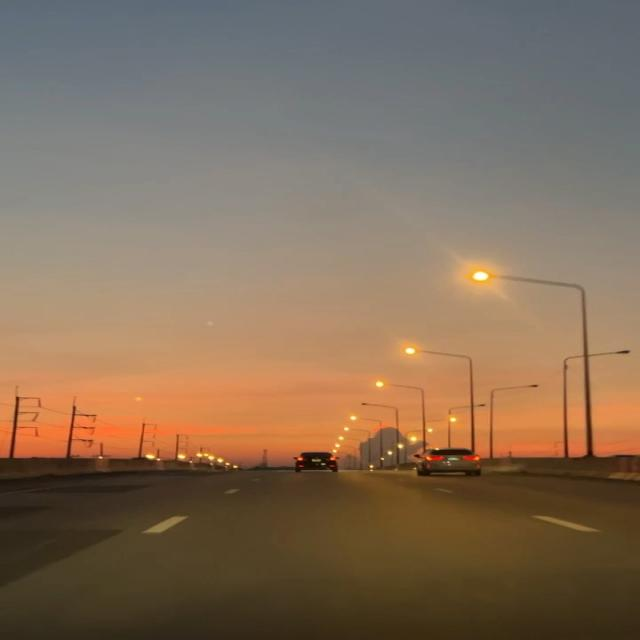Poth-hole: (188, 455, 610, 640)
